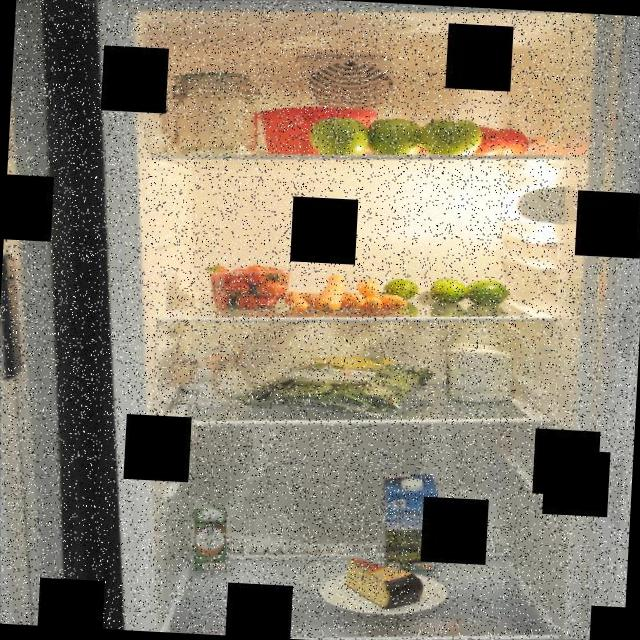Leche: (376, 468, 449, 576)
Mantequilla: (248, 99, 382, 161)
Manzana: (304, 105, 486, 166)
Queso: (337, 551, 438, 618)
Tomate: (471, 122, 534, 160)
Zanahoria: (280, 266, 412, 322)
